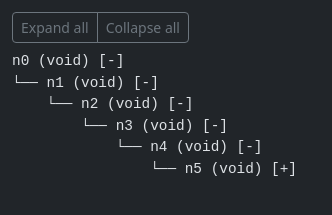
FblockTree collapse/expand › "expand all" reveals every node, including past depth 5
Step 1. Click the button "Expand all" → (55, 28), box [12, 12, 98, 43]
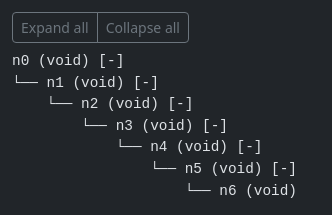
Result: the text "└── n6 (void)" is shown at [12, 183, 297, 199]
